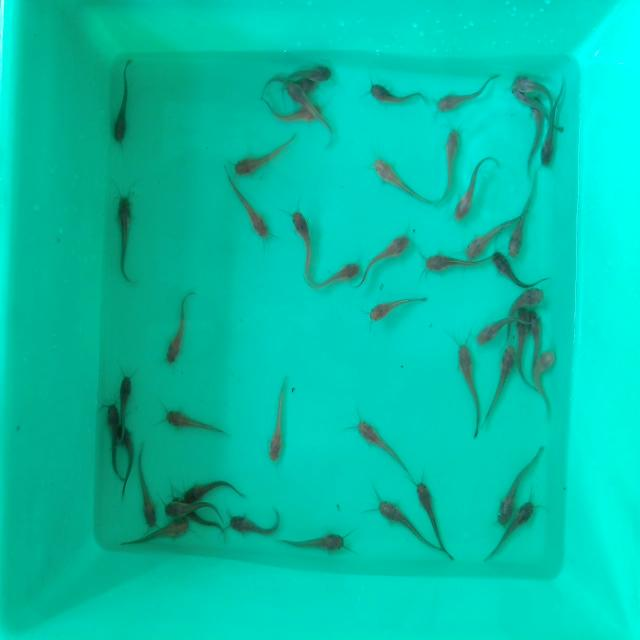lele: (372, 155, 435, 207), (357, 418, 416, 472), (220, 180, 270, 238), (289, 84, 332, 145), (455, 333, 479, 440), (287, 206, 315, 290), (374, 496, 421, 546), (452, 161, 488, 225), (162, 401, 222, 438), (364, 231, 411, 277), (507, 186, 537, 258), (122, 520, 191, 551), (490, 346, 516, 428), (496, 454, 525, 526), (166, 292, 193, 368), (235, 136, 291, 172), (437, 80, 489, 117), (508, 498, 540, 558), (266, 381, 288, 467), (114, 56, 135, 146), (116, 192, 136, 284), (135, 442, 157, 524), (368, 294, 428, 324), (255, 98, 322, 124), (412, 484, 442, 541), (534, 346, 556, 423), (442, 124, 463, 202), (489, 254, 538, 286), (467, 220, 506, 260), (515, 64, 566, 94), (314, 259, 361, 291), (544, 106, 567, 168), (514, 308, 532, 387), (279, 530, 350, 550), (369, 83, 426, 107), (101, 405, 121, 471), (190, 511, 230, 544), (508, 280, 550, 311), (473, 312, 513, 344), (118, 422, 136, 493), (182, 477, 240, 499), (260, 75, 320, 95), (232, 510, 278, 536), (511, 87, 546, 120), (421, 252, 467, 274), (530, 96, 543, 170), (117, 372, 136, 416), (289, 64, 333, 80), (530, 306, 544, 354), (164, 499, 192, 520)
